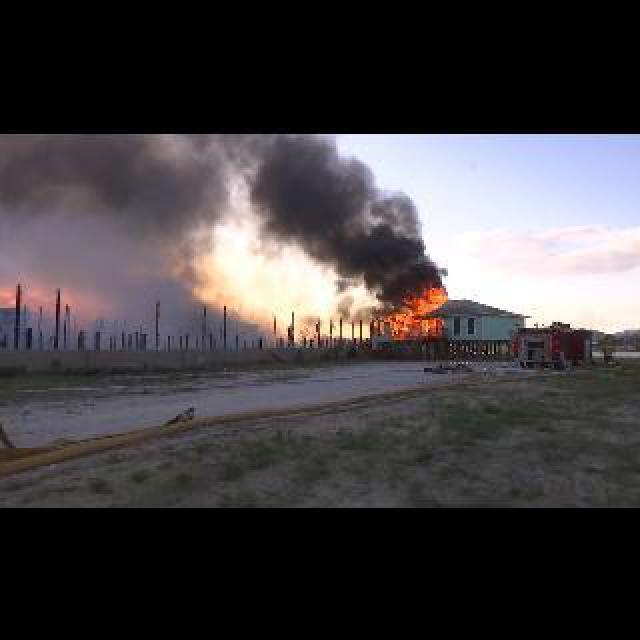Fire: (380, 278, 452, 340)
Smoke: (2, 132, 454, 274)
